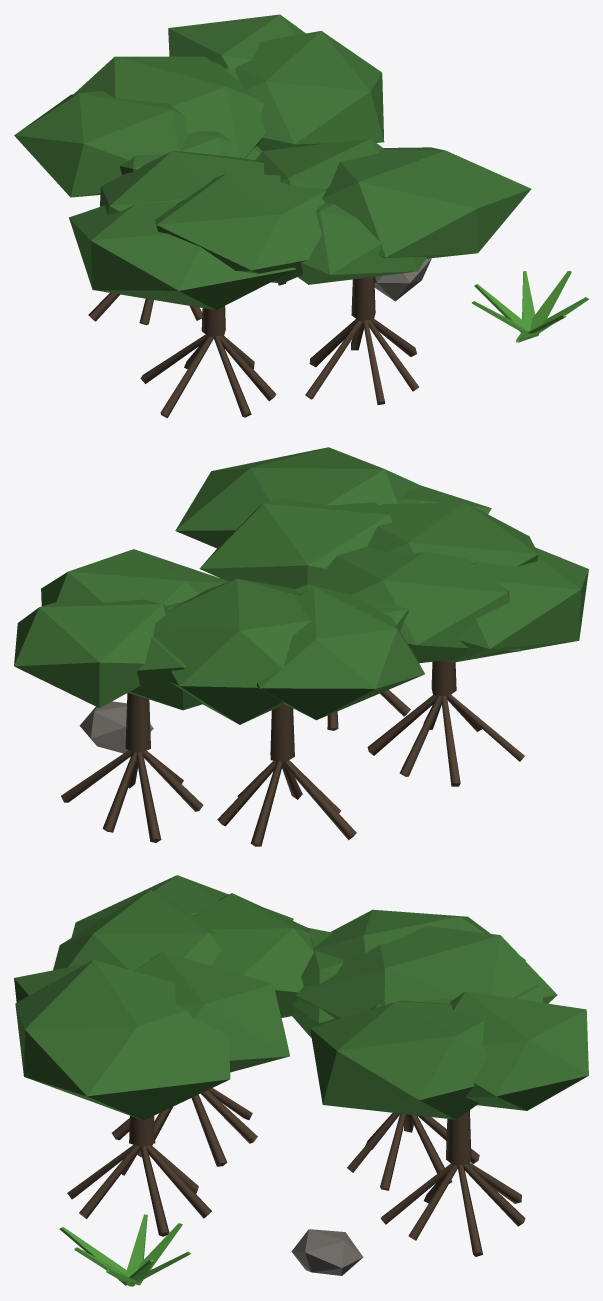
The model's file is sawyer_mangrove_d.glb.
3 renders of one model, top to bottom at view 1: azimuth 30°, elevation 25°; view 2: azimuth 150°, elevation 25°; view 3: azimuth 270°, elevation 25°, orthographic. The views are drawn at different scales.
Visible parts, largest first — view 1: mangrove_3_crown0, mangrove_2_crown2, mangrove_1_crown2, mangrove_1_crown1, mangrove_0_crown1, mangrove_0_crown2, mangrove_1_crown0, mangrove_3_crown1, mangrove_2_crown1, mangrove_3_crown2, mangrove_0_crown0, rock_4_rock (+11 smaller); view 2: mangrove_0_crown2, mangrove_0_crown1, mangrove_1_crown0, mangrove_2_crown1, mangrove_3_crown0, mangrove_3_crown2, mangrove_1_crown2, mangrove_1_crown1, mangrove_2_crown2, mangrove_2_crown0, rock_4_rock, mangrove_2_trunk (+15 smaller); view 3: mangrove_3_crown0, mangrove_2_crown2, mangrove_0_crown2, mangrove_2_crown1, mangrove_3_crown2, mangrove_1_crown1, mangrove_1_crown0, mangrove_0_crown1, rock_4_rock, mangrove_1_crown2, mangrove_0_crown0, mangrove_2_trunk (+18 smaller).
Boxes of the visible parts, x1,y1,x2,y2 form: mangrove_3_crown0: (322, 147, 531, 258); mangrove_2_crown2: (235, 31, 384, 149); mangrove_1_crown2: (69, 201, 295, 309); mangrove_1_crown1: (155, 173, 325, 283); mangrove_0_crown1: (14, 91, 187, 197); mangrove_0_crown2: (73, 56, 265, 158); mangrove_1_crown0: (100, 151, 264, 214); mangrove_3_crown1: (298, 203, 426, 284); mangrove_2_crown1: (168, 14, 305, 68); mangrove_3_crown2: (255, 138, 384, 189); mangrove_0_crown0: (119, 131, 262, 175); rock_4_rock: (374, 258, 431, 301); mangrove_0_crown2: (153, 578, 360, 724); mangrove_0_crown1: (257, 587, 424, 720); mangrove_1_crown0: (309, 546, 520, 663); mangrove_2_crown1: (14, 599, 168, 707); mangrove_3_crown0: (175, 447, 422, 548); mangrove_3_crown2: (199, 498, 393, 588); mangrove_1_crown2: (446, 547, 588, 663); mangrove_1_crown1: (367, 502, 538, 566); mangrove_2_crown2: (41, 549, 228, 606); mangrove_2_crown0: (128, 588, 208, 710); rock_4_rock: (79, 701, 153, 753); mangrove_2_trunk: (125, 692, 150, 752); mangrove_3_crown0: (15, 960, 230, 1120); mangrove_2_crown2: (310, 1000, 487, 1119); mangrove_0_crown2: (296, 919, 557, 1019); mangrove_2_crown1: (450, 991, 588, 1110); mangrove_3_crown2: (134, 952, 289, 1072); mangrove_1_crown1: (53, 890, 221, 970); mangrove_1_crown0: (194, 893, 313, 1017); mangrove_0_crown1: (313, 909, 525, 960); rock_4_rock: (291, 1229, 363, 1275); mangrove_1_crown2: (71, 875, 293, 937); mangrove_0_crown0: (291, 928, 343, 1037); mangrove_2_trunk: (446, 1110, 471, 1165).
Bounding box in the file's own units: 5 × 2.3 × 5.01.
